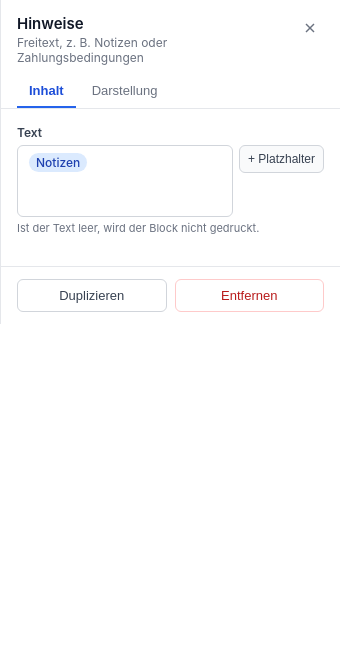
it: BlockConfigPanel › style tab (settings + font) › hides dependent settings (showIf)
Click the tab "Darstellung" at (125, 92), box [80,75,170,108]
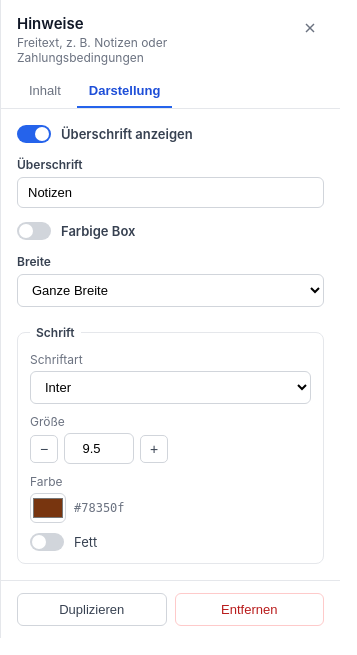
Check: the text "Farbige Box" is shown, box [17,222,136,240]
